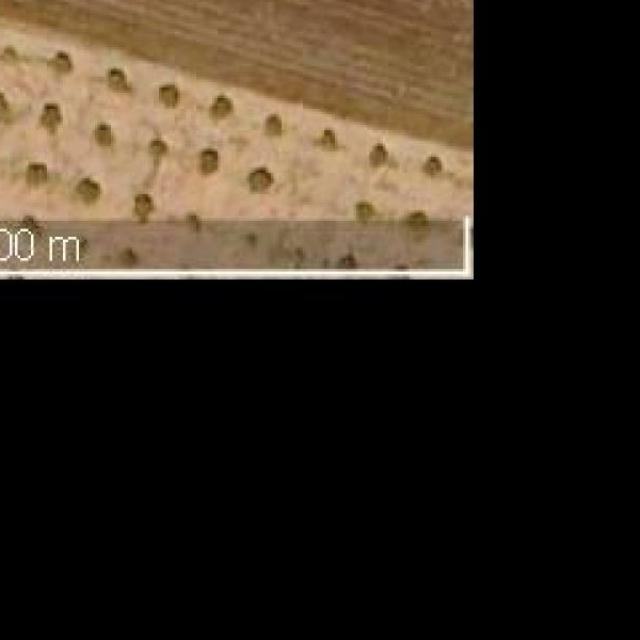Tree: (36, 53, 74, 80), (404, 207, 431, 237), (39, 104, 64, 136), (130, 197, 157, 224), (246, 171, 276, 195), (314, 128, 340, 153), (26, 162, 50, 189), (109, 69, 133, 94), (77, 178, 101, 203), (180, 213, 207, 235), (0, 93, 18, 125), (423, 155, 445, 181), (372, 146, 397, 168), (198, 149, 218, 176), (356, 203, 378, 227), (159, 85, 180, 110), (93, 123, 114, 147), (0, 42, 20, 67), (146, 135, 168, 157), (212, 96, 232, 117), (266, 114, 282, 136)
